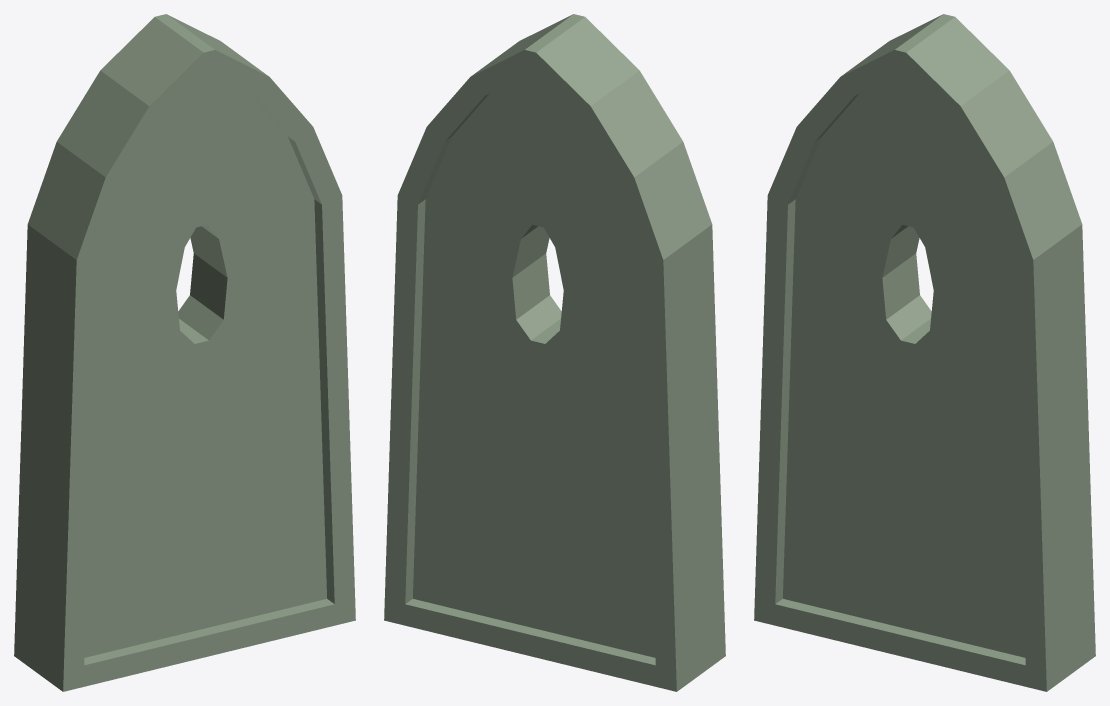
Rendered from gravestone.glb.
3 views of the same model, side by side, from view 1: azimuth 30°, elevation 25°; view 2: azimuth 150°, elevation 25°; view 3: azimuth 330°, elevation 25° (orthographic).
Visible parts, largest first — view 1: Cube.1077; view 2: Cube.1077; view 3: Cube.1077.
Part boxes in pixels (x1,y1,x2,y2): Cube.1077: (14, 14, 355, 691); Cube.1077: (384, 14, 725, 691); Cube.1077: (754, 14, 1095, 691).
Bounding box in the file's own units: 0.1535 × 0.3031 × 0.0445.
